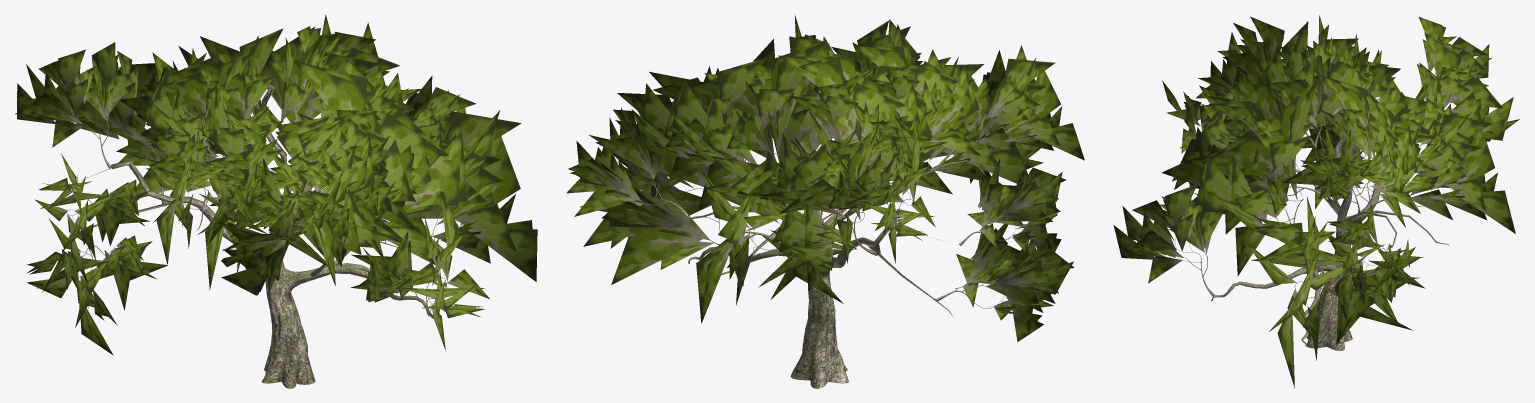
File: oak13.obj
3 renders of one model, left to right at view 1: azimuth 30°, elevation 25°; view 2: azimuth 150°, elevation 25°; view 3: azimuth 270°, elevation 25°, orthographic. The views are drawn at different scales.
Visible parts, largest first — view 1: oak leaf, mossybark03; view 2: oak leaf, mossybark03; view 3: oak leaf, mossybark03.
Part boxes in pixels (left/top/right/bottom): oak leaf: left=15, top=15, right=537, bottom=355; mossybark03: left=51, top=84, right=468, bottom=388; oak leaf: left=566, top=14, right=1084, bottom=341; mossybark03: left=628, top=92, right=1028, bottom=388; oak leaf: left=1113, top=15, right=1519, bottom=388; mossybark03: left=1166, top=66, right=1454, bottom=350.
Bounding box in the file's own units: 928 × 622 × 837.
2 materials, 2 textured.
